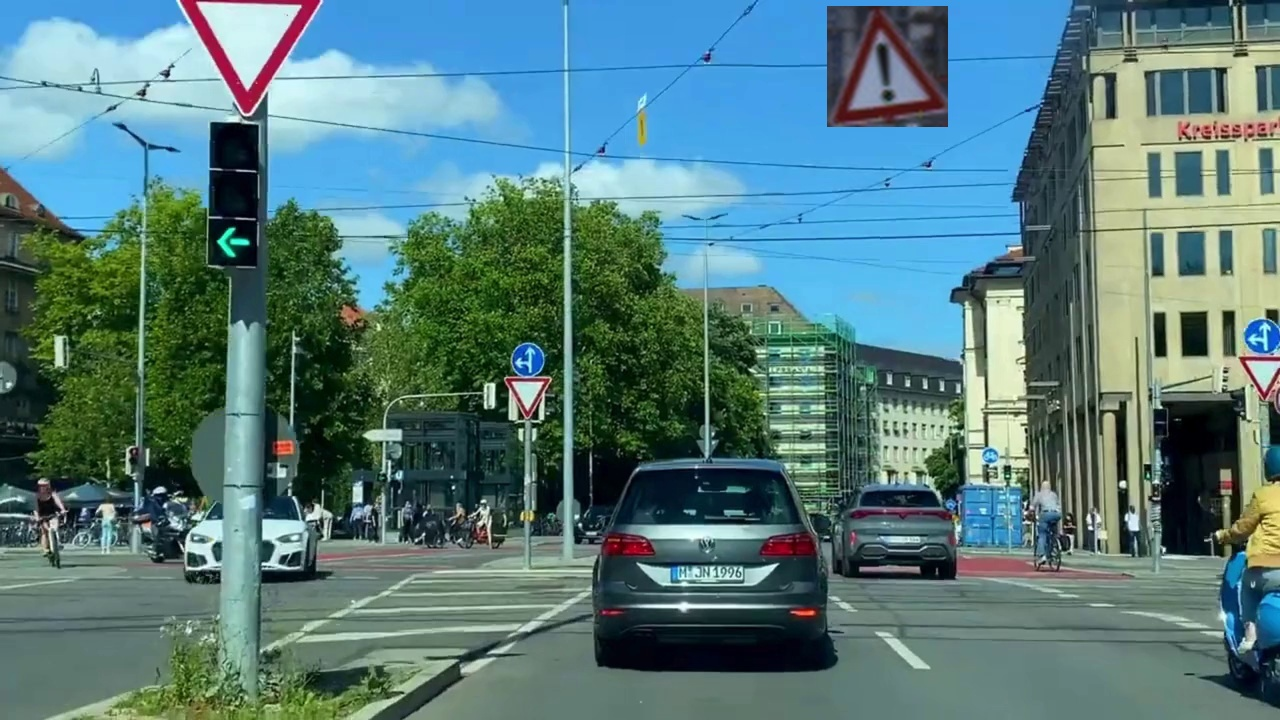Caution: (827, 6, 948, 127)
